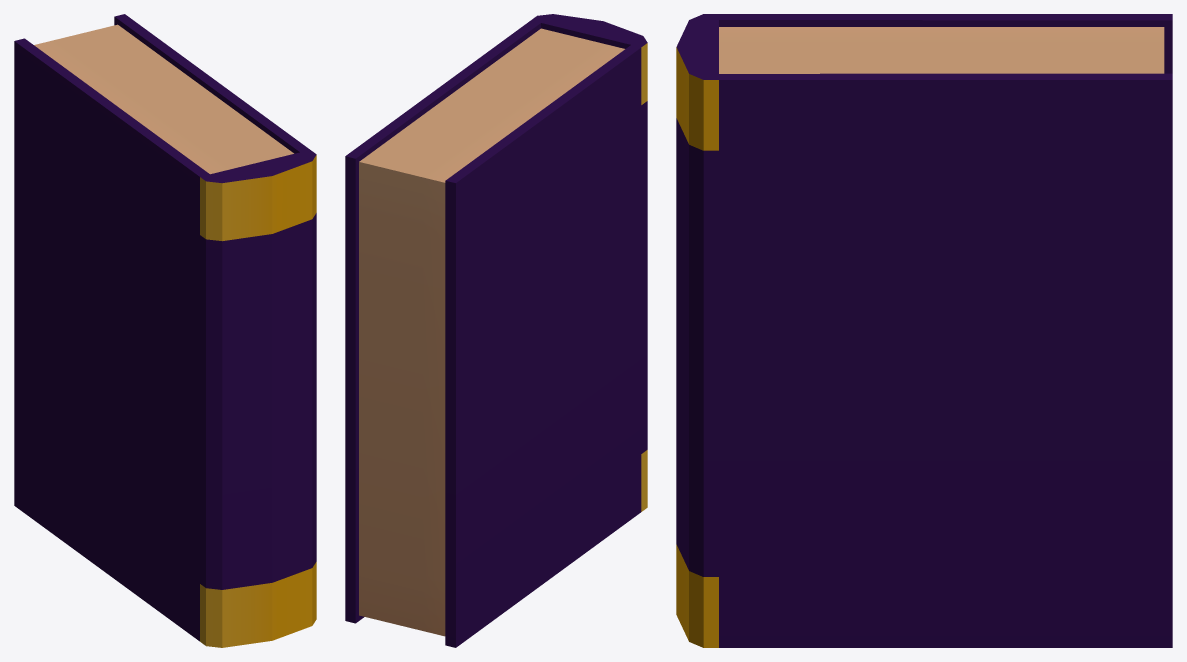
The model's file is Book_blue_C.fbx.
3 views of the same model, side by side, from view 1: azimuth 30°, elevation 25°; view 2: azimuth 150°, elevation 25°; view 3: azimuth 270°, elevation 25° (orthographic). The views are drawn at different scales.
Parts seen in each view (by area): view 1: Book_blue_C; view 2: Book_blue_C; view 3: Book_blue_C.
Boxes of the visible parts, left/top/right/bottom form: Book_blue_C: left=14, top=14, right=316, bottom=647; Book_blue_C: left=345, top=14, right=647, bottom=647; Book_blue_C: left=676, top=14, right=1172, bottom=647.
Bounding box in the file's own units: 6.32 × 25.38 × 20.08.
